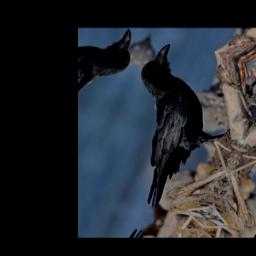Crow: (89, 38, 256, 224)
